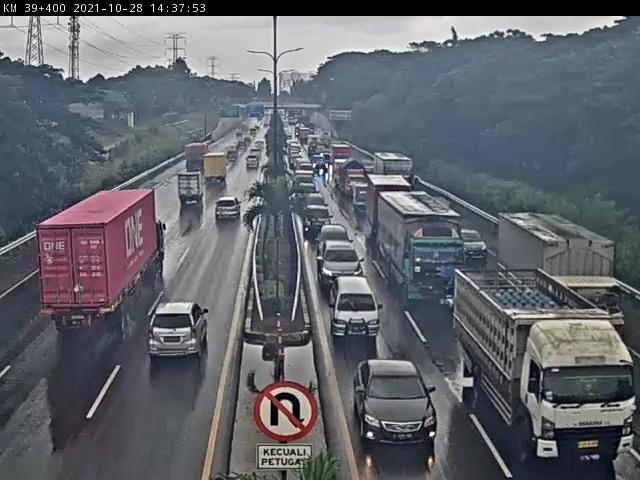bus: (325, 276, 402, 342)
car: (351, 346, 455, 469), (147, 291, 212, 372), (315, 237, 375, 286), (208, 195, 250, 236), (315, 220, 360, 258), (306, 204, 340, 242), (455, 223, 484, 264), (303, 191, 333, 213)
truck: (444, 261, 640, 473), (29, 180, 178, 328), (494, 200, 640, 351), (375, 189, 467, 313), (169, 166, 215, 221), (176, 137, 214, 182), (184, 156, 230, 187)
